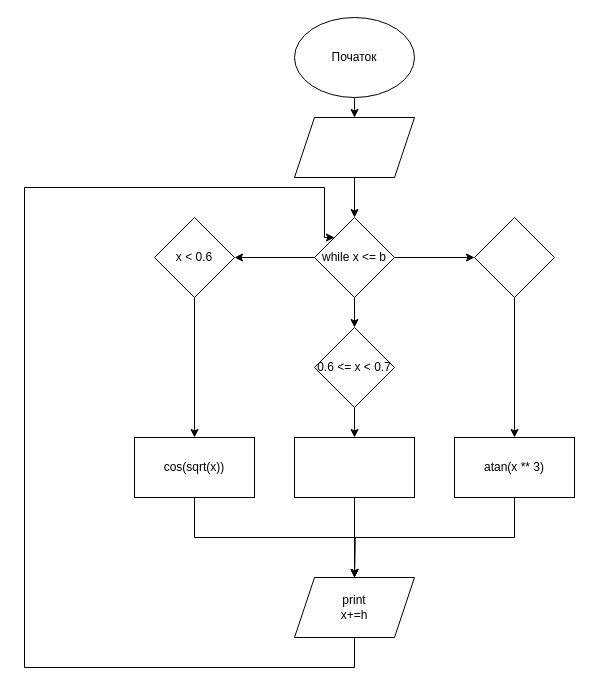
This 592x693 diagram has some shape labels left out. Here are the shapes that lost their labels. From the top down, the centre of each, then its label:
At point (354, 147): "оголошення змінних".
At point (514, 257): "x > 0.7".
At point (354, 467): "1/tan(x**2)".
